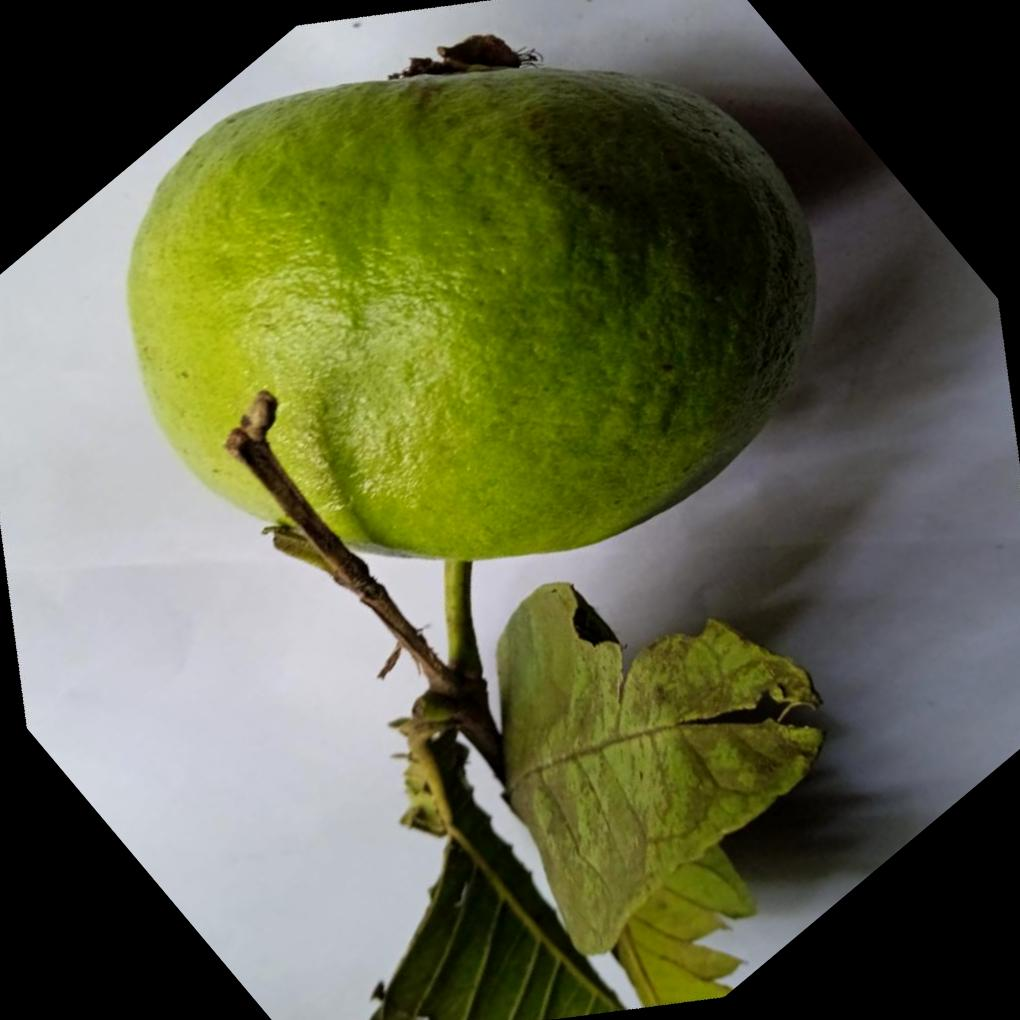FreshGuava: (127, 58, 822, 756)
